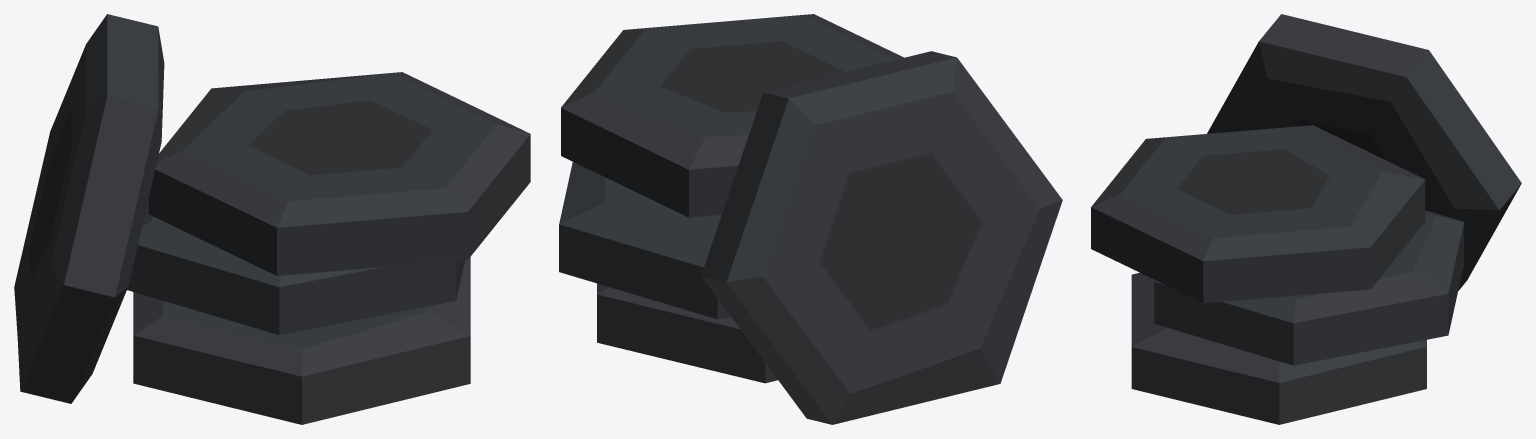
Rendered from SM_Prop_Gym_Weight_Stack_02.fbx.
3 views of the same model, side by side, from view 1: azimuth 30°, elevation 25°; view 2: azimuth 150°, elevation 25°; view 3: azimuth 270°, elevation 25° (orthographic). The views are drawn at different scales.
Parts seen in each view (by area): view 1: SM_Prop_Gym_Weight_Stack_02; view 2: SM_Prop_Gym_Weight_Stack_02; view 3: SM_Prop_Gym_Weight_Stack_02.
Part boxes in pixels (box(x1,y1,x2,y2)): SM_Prop_Gym_Weight_Stack_02: box(14, 14, 530, 424); SM_Prop_Gym_Weight_Stack_02: box(559, 14, 1062, 424); SM_Prop_Gym_Weight_Stack_02: box(1091, 14, 1521, 424).
Size of the model in its own units: 39.4 by 25.54 by 37.01.
